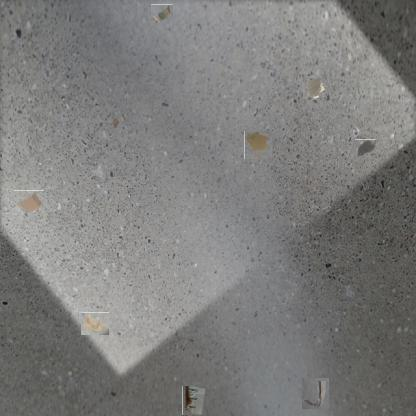dirty: (301, 378, 329, 410), (182, 385, 205, 415), (14, 190, 44, 213), (83, 311, 108, 336), (303, 77, 327, 99), (151, 4, 173, 23)
liquid: (244, 132, 272, 159), (356, 138, 375, 157)
